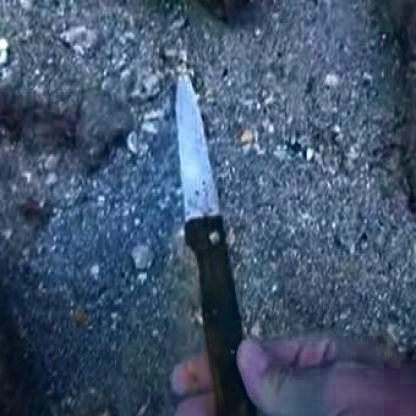misc: (159, 57, 262, 416)
